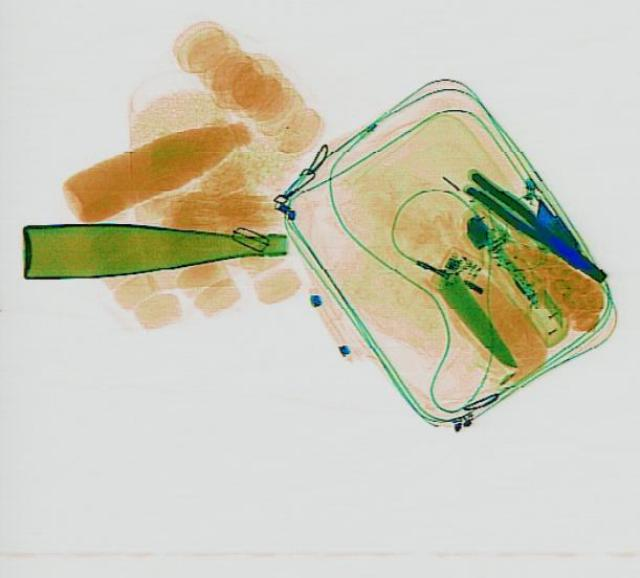Pliers: (456, 167, 612, 285)
